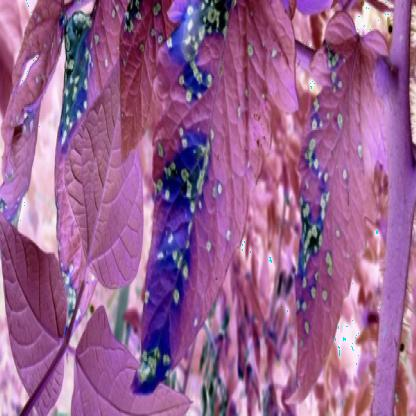Tomato Septoria leaf spot: (137, 2, 274, 390), (294, 15, 371, 399)
